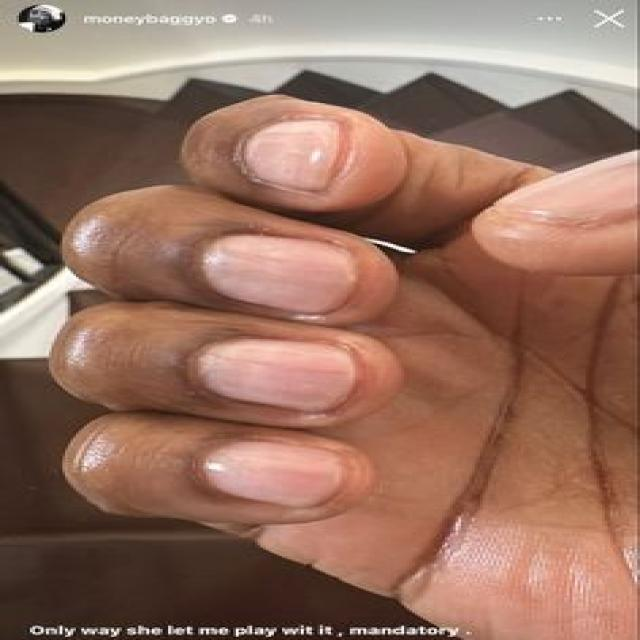Fingernail: (201, 233, 357, 313), (197, 339, 354, 412), (203, 442, 345, 506), (241, 120, 339, 191)
